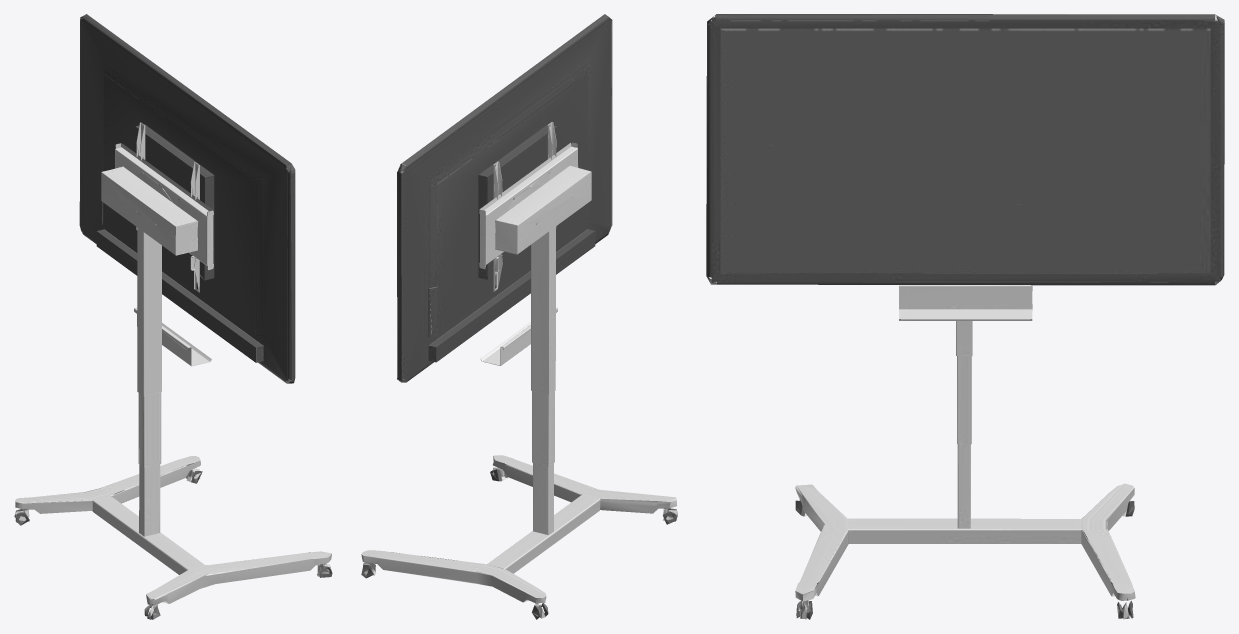
File: BAILEYS-EDU-ZJ01.obj
The picture shows the model from 3 angles, left to right: view 1: azimuth 30°, elevation 25°; view 2: azimuth 150°, elevation 25°; view 3: azimuth 270°, elevation 25°; orthographic projection. The views are drawn at different scales.
Bounding box in the file's own units: 0.796 × 1.87 × 1.56.
Materials: 1 (1 with a texture image).
